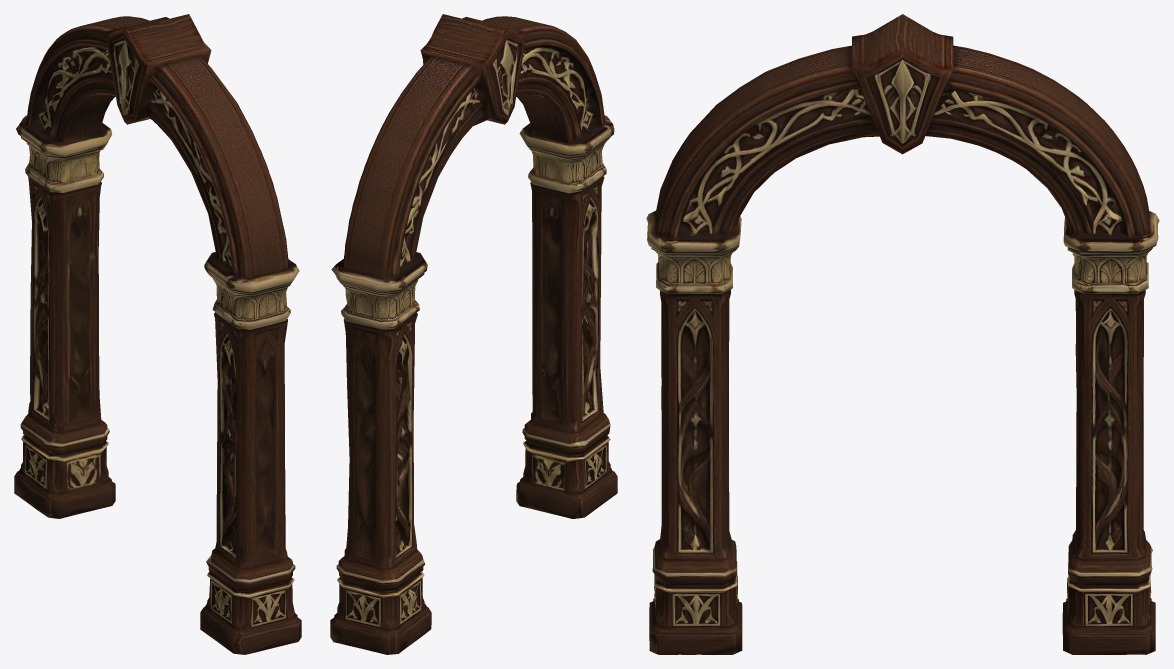
File: arch.glb
The picture shows the model from 3 angles, left to right: view 1: azimuth 30°, elevation 25°; view 2: azimuth 150°, elevation 25°; view 3: azimuth 270°, elevation 25°; orthographic projection. The views are drawn at different scales.
Visible parts, largest first — view 1: tripo_node_b3aeada0-7234-4096-8e45-453f504e85f0; view 2: tripo_node_b3aeada0-7234-4096-8e45-453f504e85f0; view 3: tripo_node_b3aeada0-7234-4096-8e45-453f504e85f0.
Boxes of the visible parts, x1,y1,x2,y2 form: tripo_node_b3aeada0-7234-4096-8e45-453f504e85f0: (14, 14, 301, 654); tripo_node_b3aeada0-7234-4096-8e45-453f504e85f0: (330, 14, 617, 654); tripo_node_b3aeada0-7234-4096-8e45-453f504e85f0: (646, 14, 1159, 654).
Size of the model in its own units: 0.14 by 0.9783 by 0.752.
Materials: 1 (1 with a texture image).
